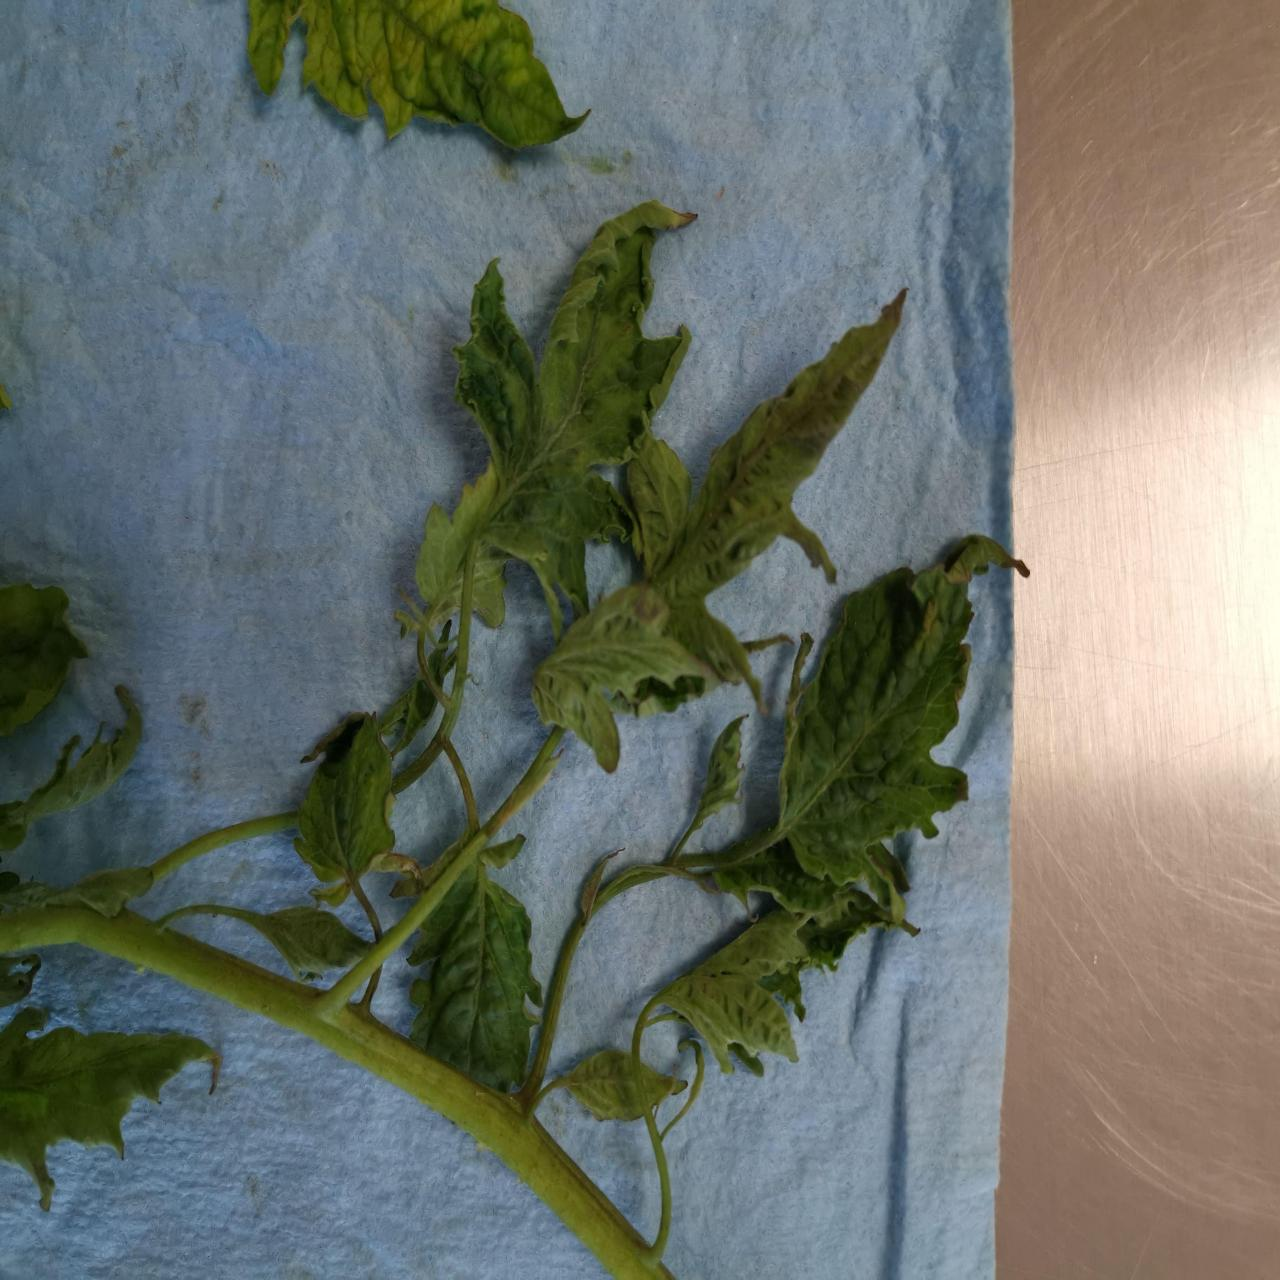T_L_R: (459, 200, 692, 611), (651, 291, 906, 654), (776, 564, 974, 884), (248, 1, 584, 148), (1, 1008, 222, 1211), (535, 584, 716, 774), (411, 844, 549, 1091), (654, 911, 809, 1074), (297, 714, 396, 884), (416, 468, 509, 628), (1, 584, 89, 738)
T_S_R: (1, 907, 668, 1276), (321, 728, 564, 1017), (1, 688, 144, 851), (406, 542, 479, 784), (159, 904, 374, 981), (519, 921, 586, 1114), (670, 719, 745, 862), (151, 811, 301, 881), (634, 1024, 674, 1268), (444, 738, 481, 838)
